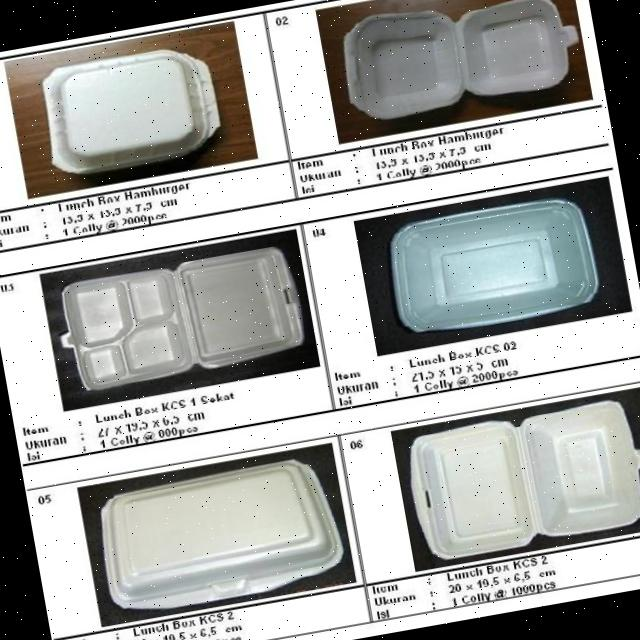styrofoam: (90, 452, 348, 620), (400, 391, 640, 564), (49, 240, 308, 395), (381, 190, 604, 340), (334, 0, 586, 125), (33, 38, 226, 181)
